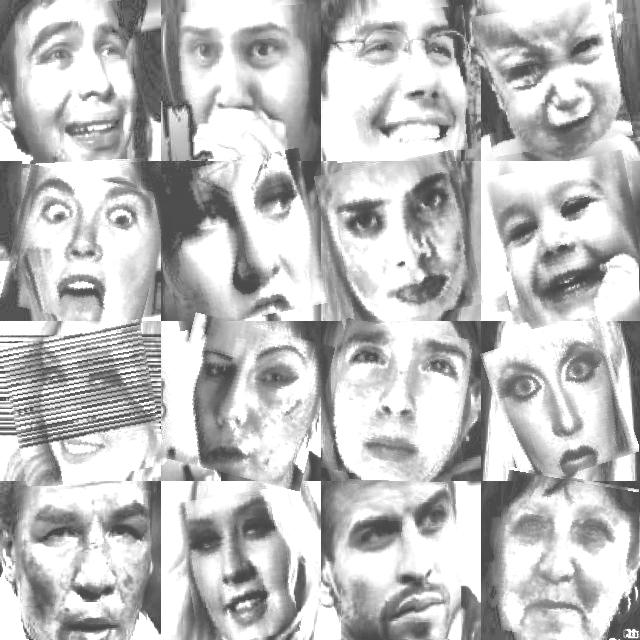angry: (157, 155, 322, 325), (168, 320, 328, 483), (326, 323, 469, 485)
fear: (6, 171, 163, 327), (490, 324, 631, 482), (169, 7, 313, 159)
happy: (488, 472, 640, 640), (490, 155, 640, 325), (7, 325, 161, 485), (326, 8, 474, 160), (342, 480, 461, 640), (182, 490, 295, 640)
neutral: (321, 155, 477, 324), (14, 486, 150, 640)
sad: (476, 0, 628, 152), (16, 2, 146, 166)
